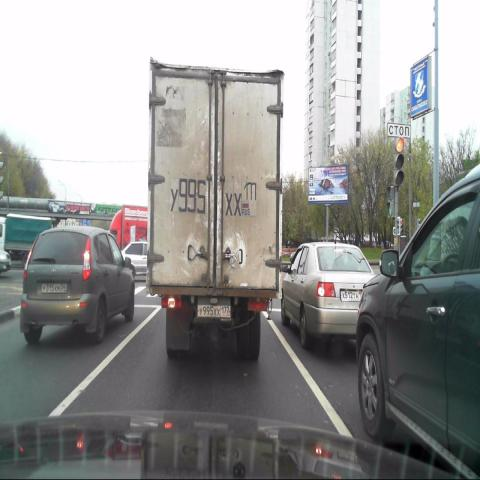6_16: (387, 122, 410, 140)
